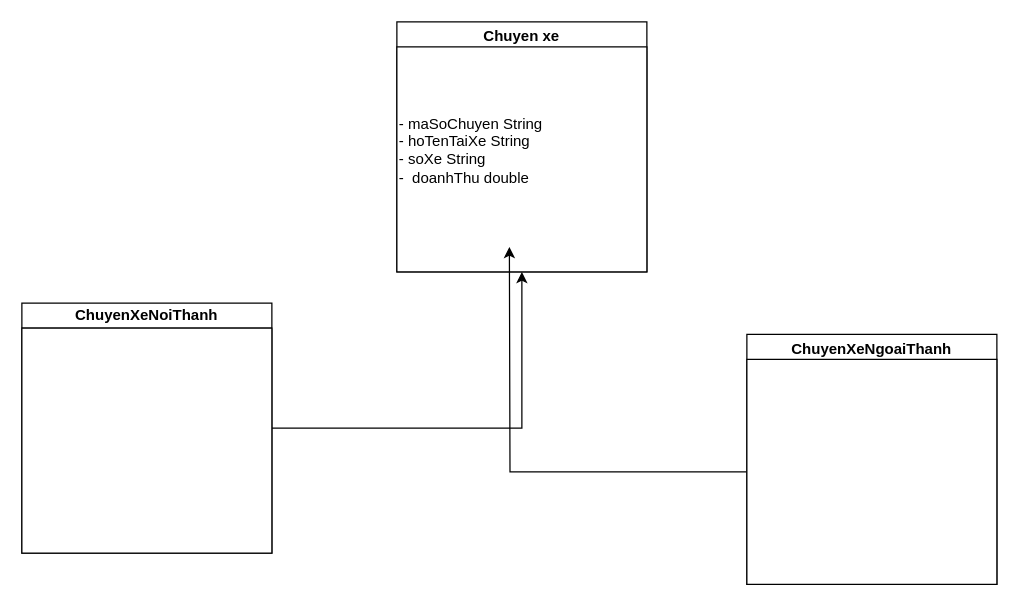
Image size: 1019x606. Some labels were removed from this diagram. Here are the shapes that lost their labels. From the top down, the centre of each, then its label:
point 146,440: - soTuyen String - soKmDiDuoc float
point 871,471: - noiDen String - soNgayDiDuoc float
